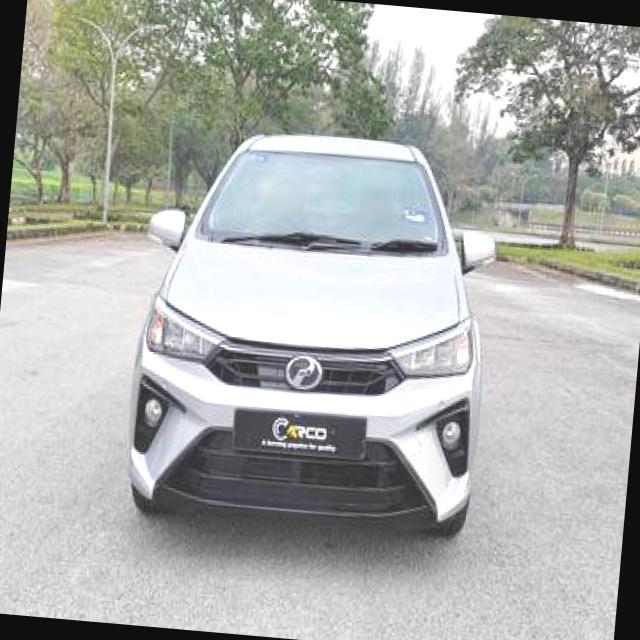PeroduaBezza: (118, 118, 504, 543)
